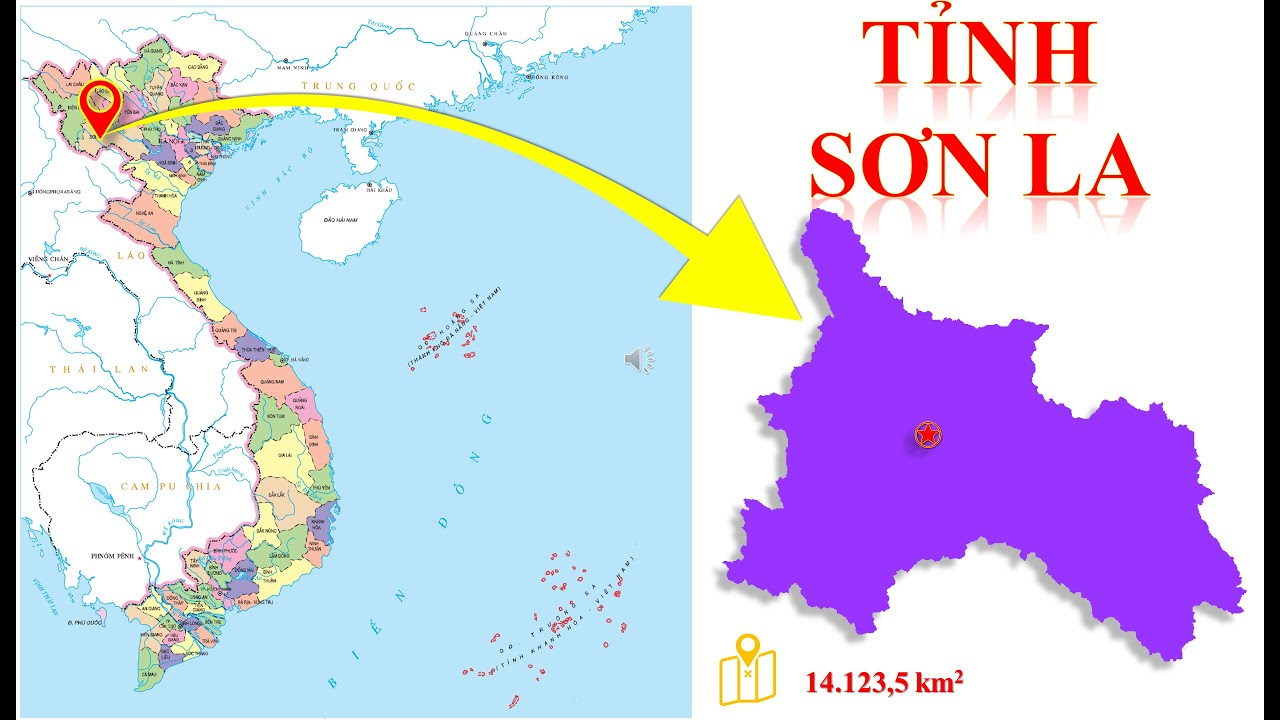Island: (458, 545, 657, 708), (398, 279, 516, 379)
